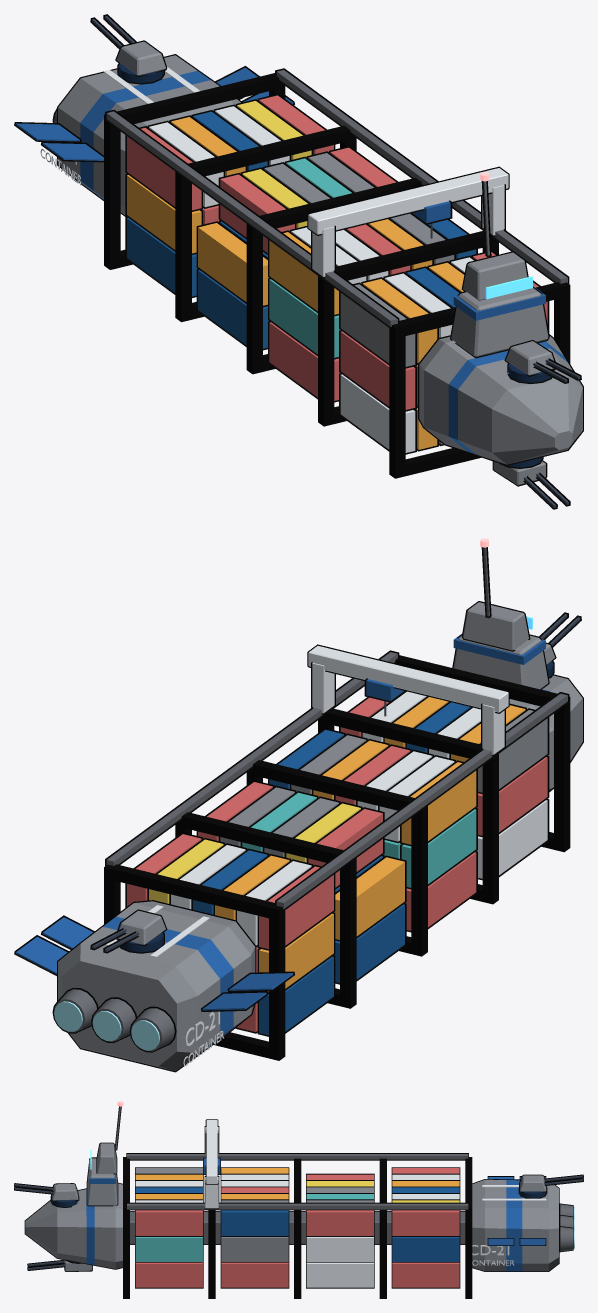
Rendered from Cargo_Destroyer_Container.fbx.
3 renders of one model, top to bottom at view 1: azimuth 30°, elevation 25°; view 2: azimuth 150°, elevation 25°; view 3: azimuth 270°, elevation 25°, orthographic. The views are drawn at different scales.
Visible parts, largest first — view 1: Containers, Racks, Bow, Engine, Gantry_Beam, Bridge_A, Bridge_B, TurretAft_House, TurretBow_House, Gantry_Leg-10.466101694915254, Radiator-11, Radiator-10 (+4 smaller); view 2: Containers, Racks, Engine, Gantry_Beam, Bridge_A, Bridge_B, Bow, Radiator11, TurretAft_House, Gantry_Leg-10.466101694915254, Gantry_Leg10.466101694915254, Radiator10 (+9 smaller); view 3: Containers, Racks, Engine, Bow, Spine, Bridge_A, Gantry_Beam, Bridge_B, TurretAft_House, TurretBow_House, Gantry_Leg10.466101694915254, Eng_N20.
Part boxes in pixels (x1,y1,x2,y2): Containers: (125, 94, 549, 454); Racks: (104, 68, 570, 478); Bow: (418, 334, 583, 465); Engine: (57, 54, 242, 216); Gantry_Beam: (307, 166, 509, 235); Bridge_A: (450, 287, 549, 358); Bridge_B: (461, 251, 529, 300); TurretAft_House: (115, 40, 167, 77); TurretBow_House: (504, 340, 555, 376); Gantry_Leg-10.466101694915254: (311, 225, 335, 278); Radiator-11: (14, 122, 81, 142); Radiator-10: (41, 141, 103, 162); Containers: (125, 691, 549, 1036); Racks: (104, 650, 570, 1060); Engine: (57, 900, 256, 1072); Gantry_Beam: (307, 644, 509, 713); Bridge_A: (452, 634, 549, 689); Bridge_B: (461, 601, 530, 651); Bow: (509, 674, 583, 791); Radiator11: (14, 935, 68, 975); TurretAft_House: (116, 909, 167, 946); Gantry_Leg-10.466101694915254: (481, 703, 505, 756); Gantry_Leg10.466101694915254: (311, 662, 335, 714); Radiator10: (41, 915, 94, 949); Containers: (135, 1167, 460, 1288); Racks: (123, 1153, 472, 1298); Engine: (472, 1179, 559, 1271); Bow: (24, 1182, 122, 1269); Spine: (130, 1211, 465, 1244); Bridge_A: (86, 1157, 118, 1206); Gantry_Beam: (205, 1119, 218, 1184); Bridge_B: (96, 1142, 117, 1174); TurretAft_House: (519, 1174, 546, 1192); TurretBow_House: (51, 1183, 79, 1201); Gantry_Leg10.466101694915254: (204, 1176, 219, 1209); Eng_N20: (559, 1226, 573, 1252).
Size of the model in its own units: 28.6 by 33.51 by 101.
